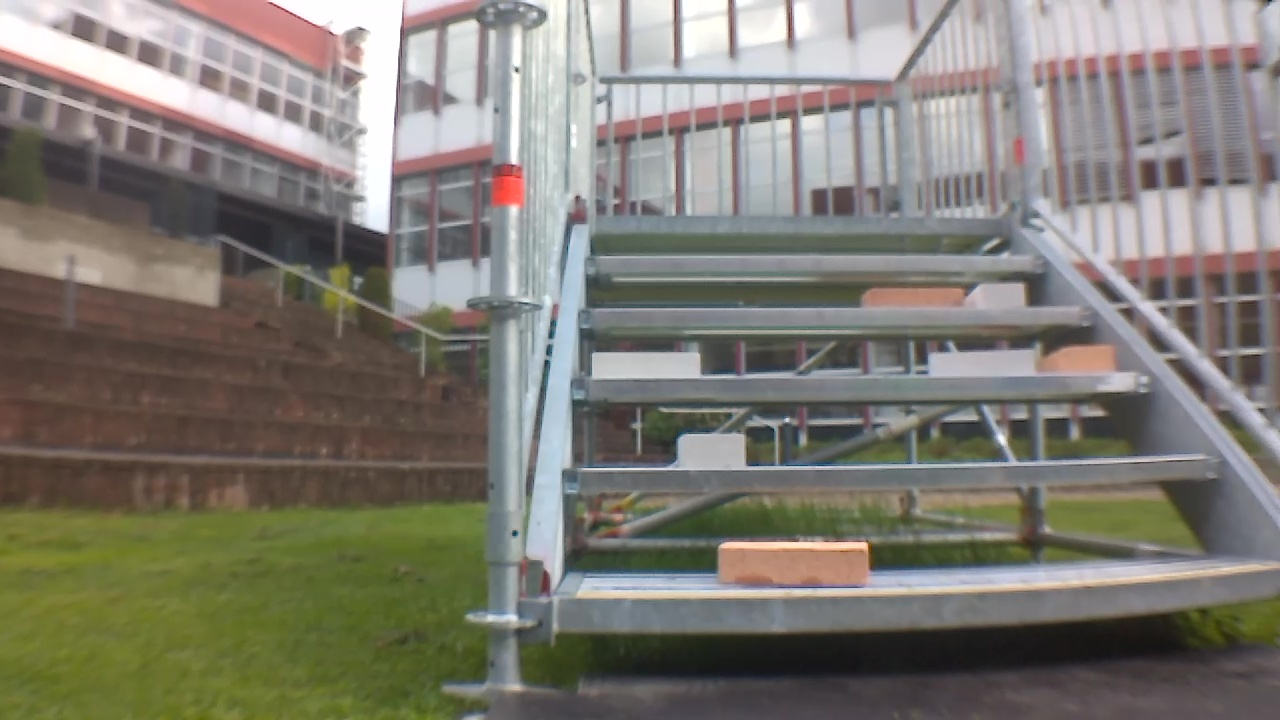brick: (717, 542, 866, 586), (591, 352, 698, 377), (930, 351, 1032, 376), (677, 434, 744, 466), (860, 288, 961, 306), (1046, 347, 1113, 372), (967, 285, 1024, 306)
edge: (557, 568, 1280, 632), (563, 454, 1220, 490), (572, 370, 1153, 399), (579, 306, 1097, 327), (590, 216, 1012, 234), (585, 257, 1043, 272)
stairs: (465, 2, 1280, 686)
steps: (549, 205, 1280, 641)
